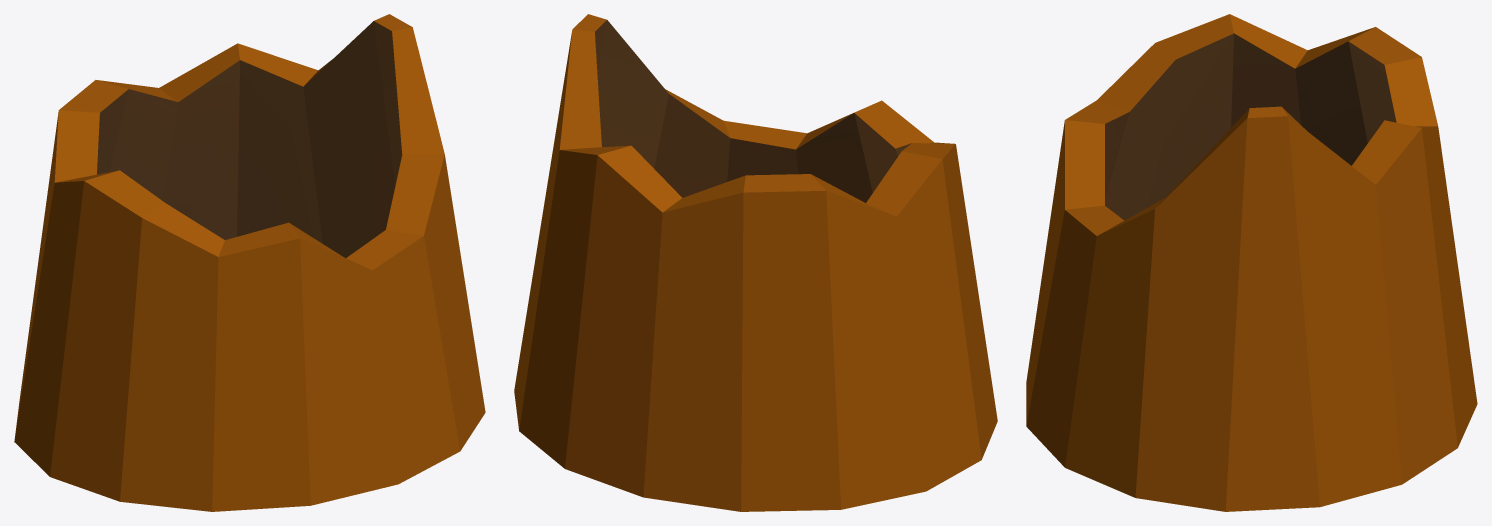
Rendered from SM_Prop_CutTree.fbx.
The picture shows the model from 3 angles, left to right: view 1: azimuth 30°, elevation 25°; view 2: azimuth 150°, elevation 25°; view 3: azimuth 270°, elevation 25°; orthographic projection. The views are drawn at different scales.
Parts seen in each view (by area): view 1: SM_Prop_CutTree; view 2: SM_Prop_CutTree; view 3: SM_Prop_CutTree.
Part boxes in pixels (x1=…): SM_Prop_CutTree: x1=14, y1=14, x2=485, y2=511; SM_Prop_CutTree: x1=514, y1=14, x2=997, y2=511; SM_Prop_CutTree: x1=1026, y1=14, x2=1477, y2=511.
Bounding box in the file's own units: 165 × 132 × 146.
